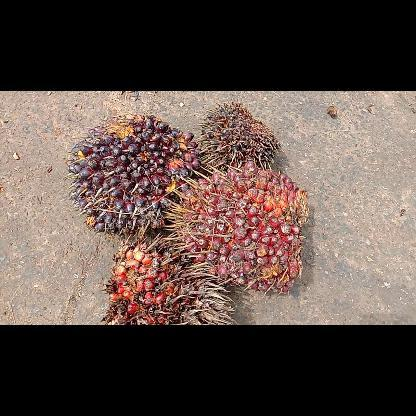Kurang masak: (65, 111, 207, 239)
TBS abnormal: (196, 102, 282, 170)
TBS masak: (166, 162, 310, 296)
Terlalu masak: (100, 233, 242, 324)
